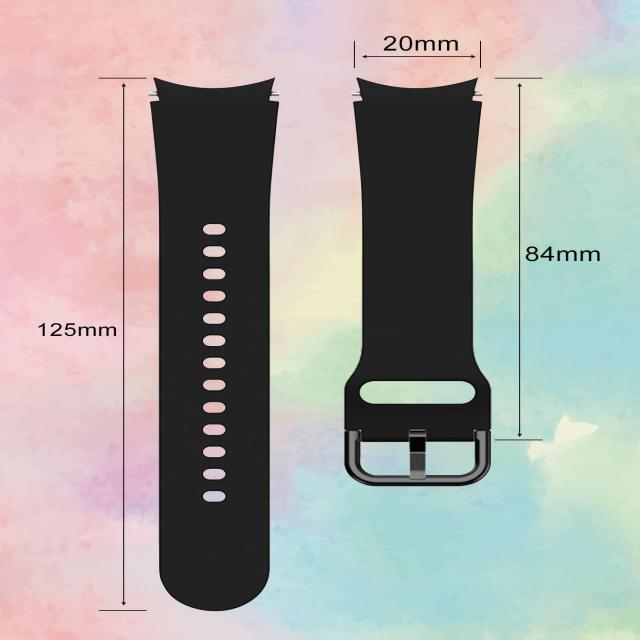bracelet: (97, 24, 322, 640), (308, 4, 556, 516)
